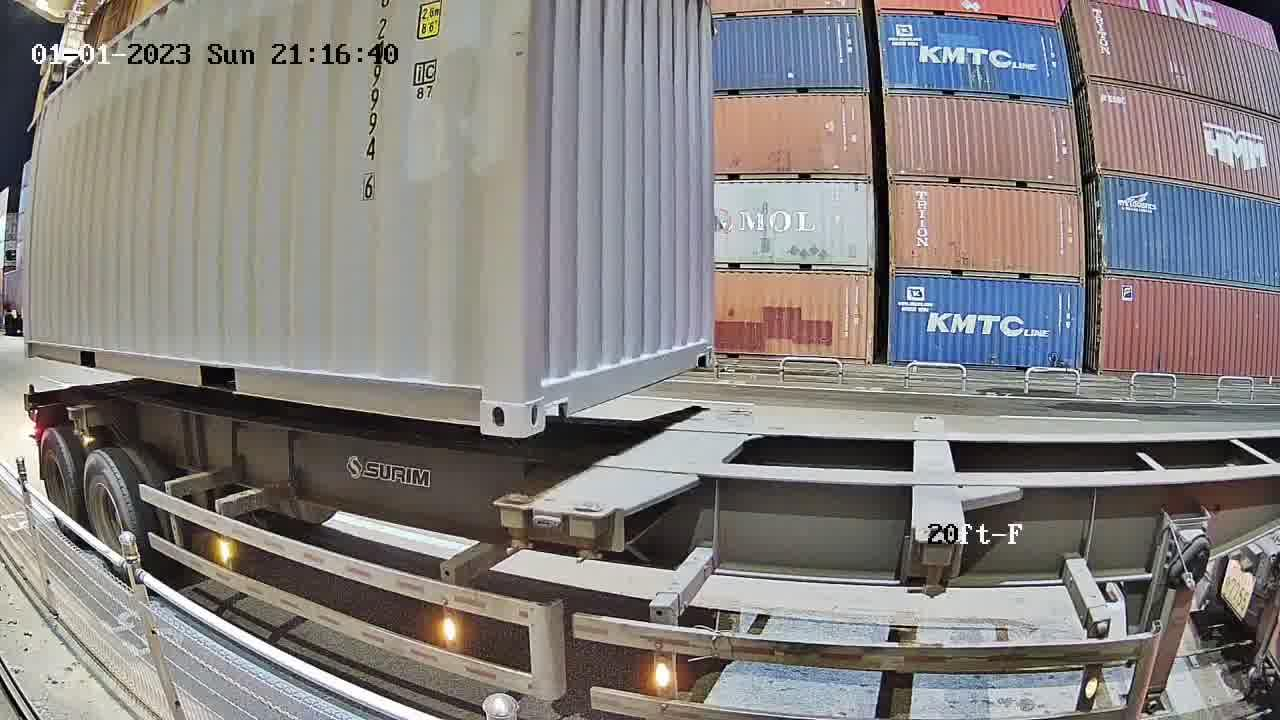Cone: (497, 490, 533, 555)
Hole_L: (519, 345, 583, 439)
Hole_R: (452, 360, 517, 440)
Tire: (82, 449, 143, 551), (40, 431, 76, 519)
